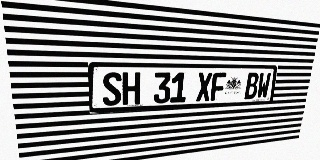1: (170, 72, 187, 103)
3: (153, 72, 171, 104)
B: (244, 73, 259, 99)
F: (210, 72, 226, 101)
H: (122, 72, 140, 105)
S: (102, 72, 122, 106)
W: (256, 73, 271, 99)
X: (196, 72, 212, 101)
